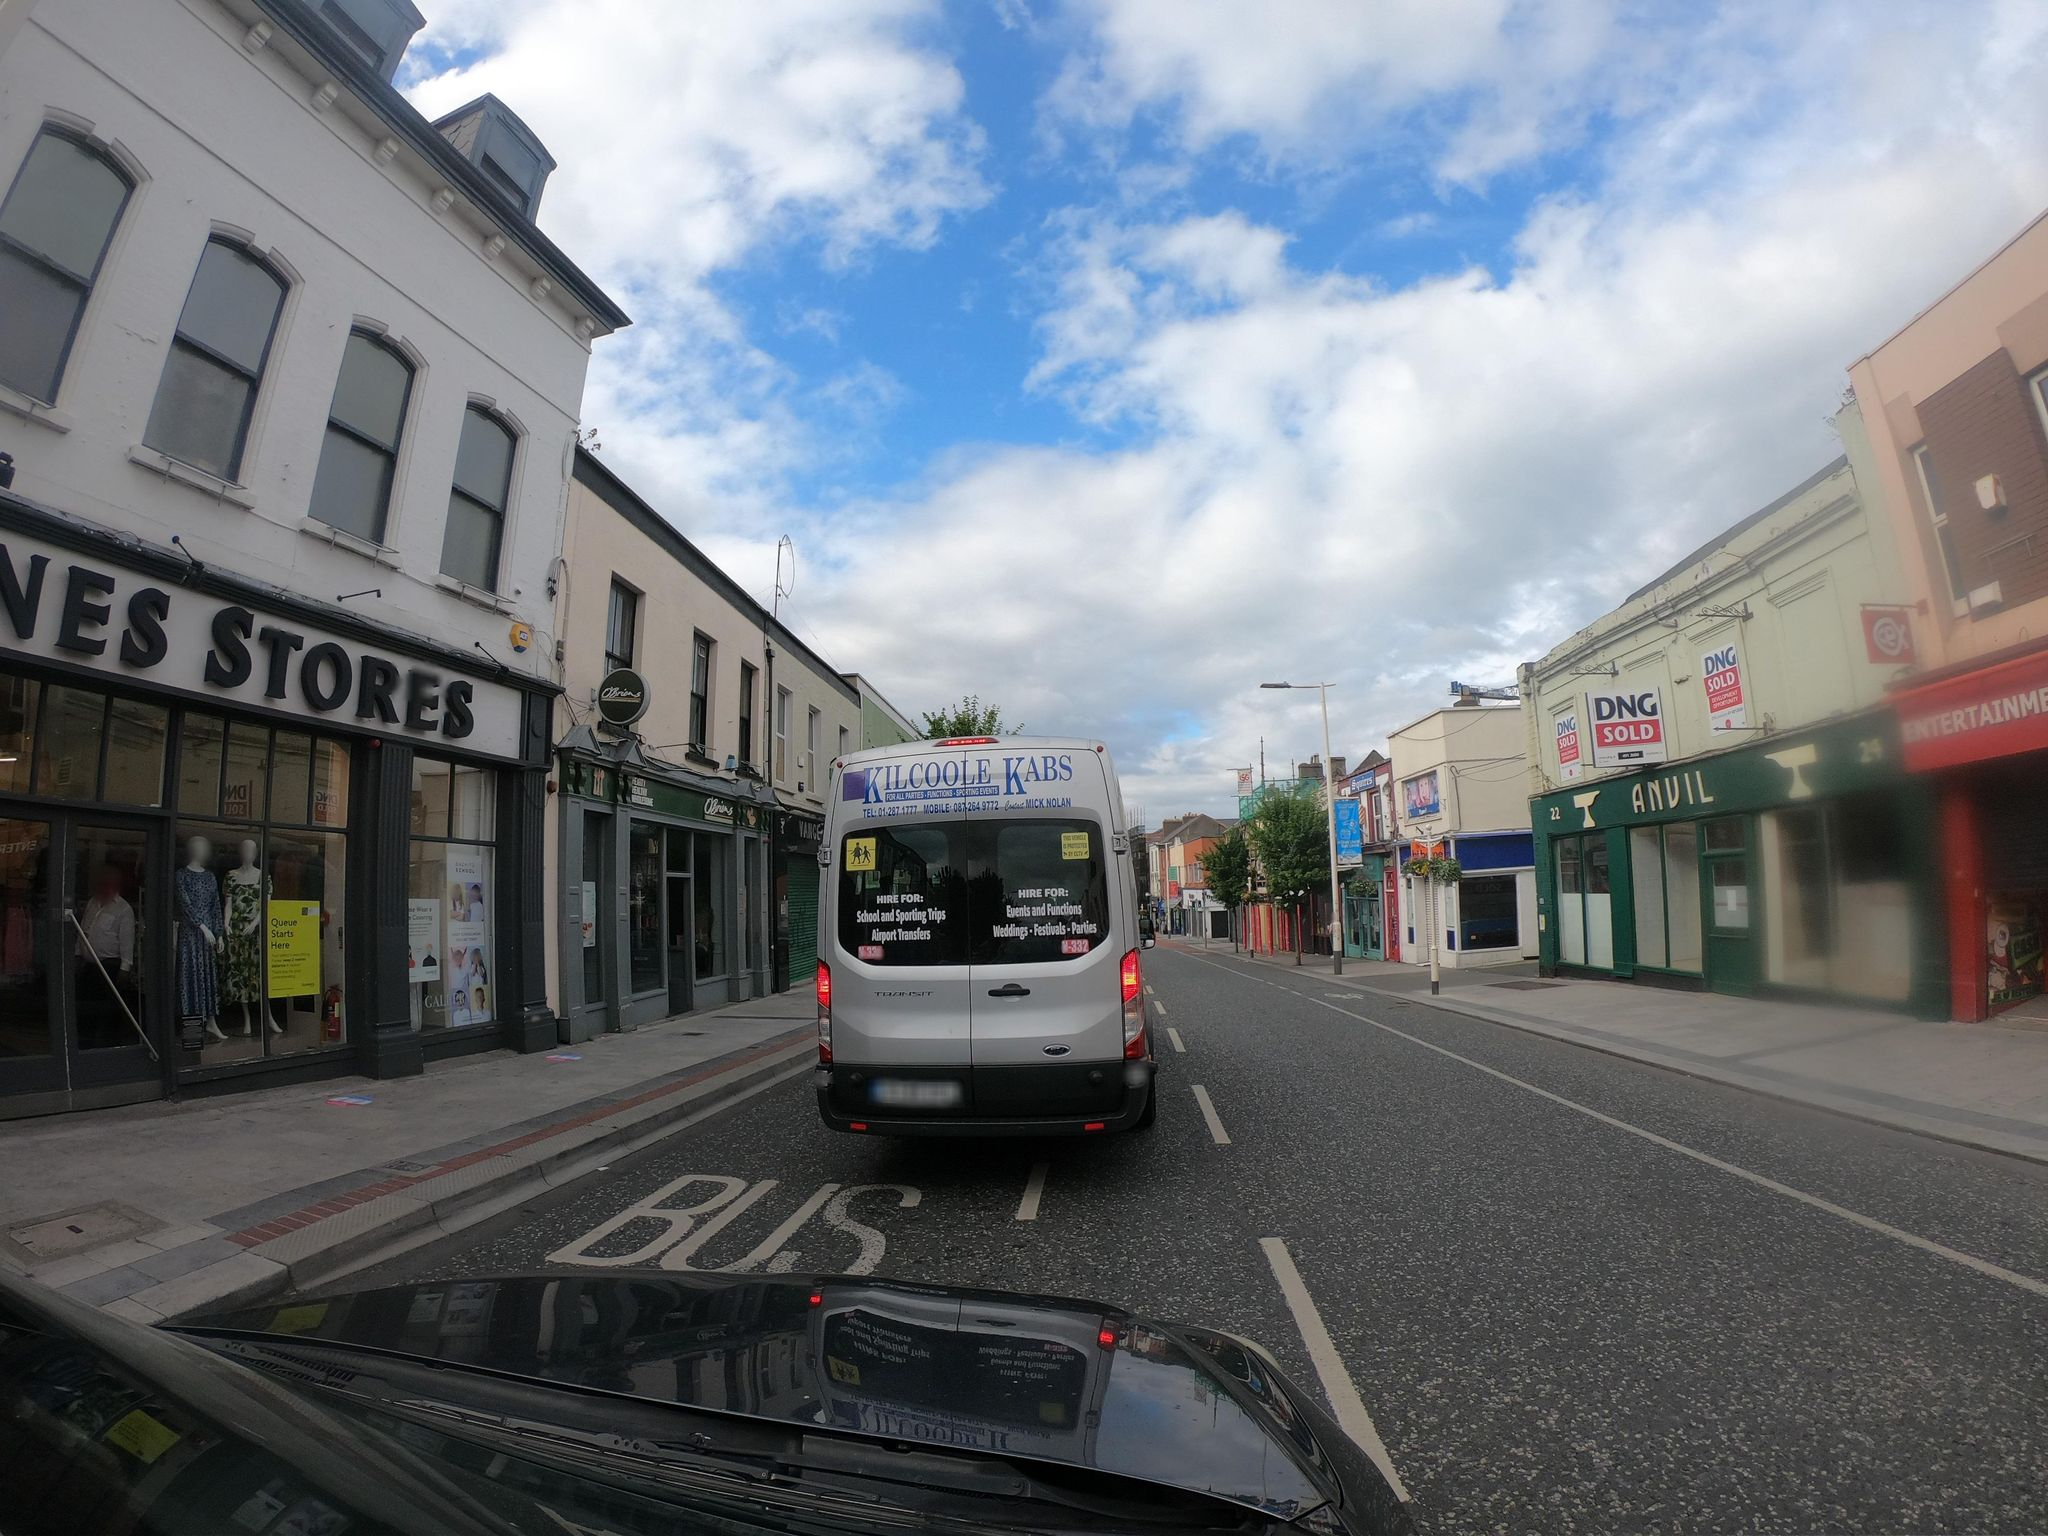property sign: (1580, 671, 1705, 783)
